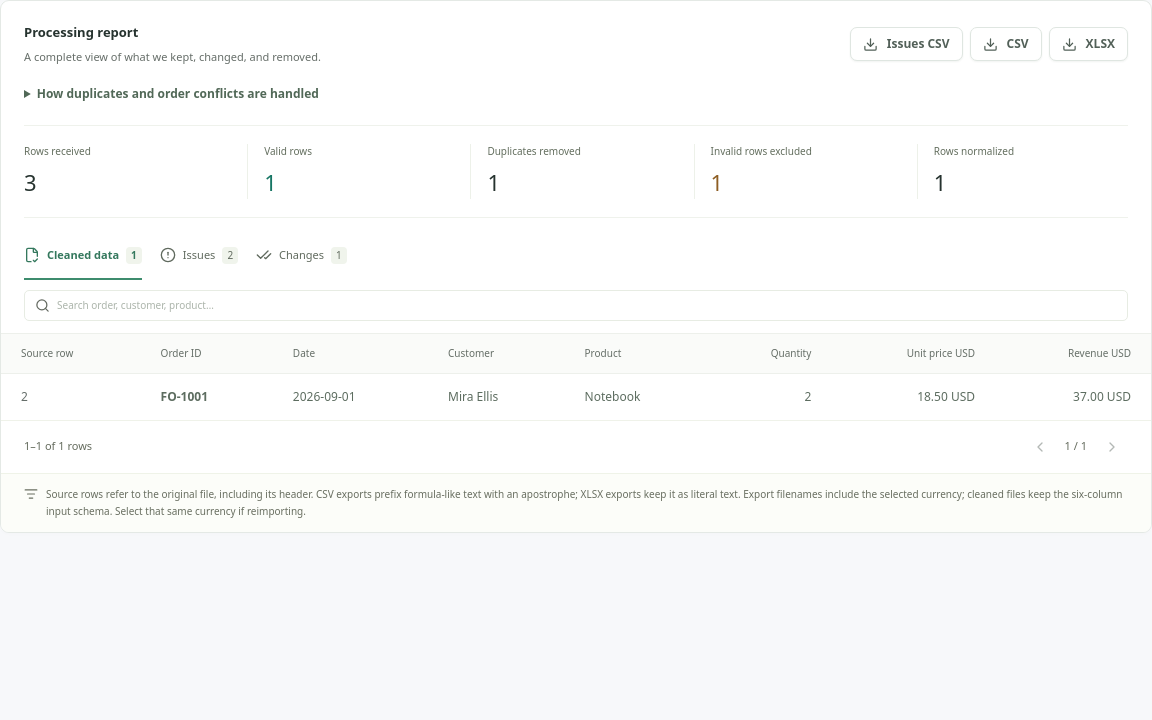
Scenario: filters cleaned rows without changing the stored report
In the field named "Search cleaned data": (587, 305) [57,298,1117,313], type "missing"
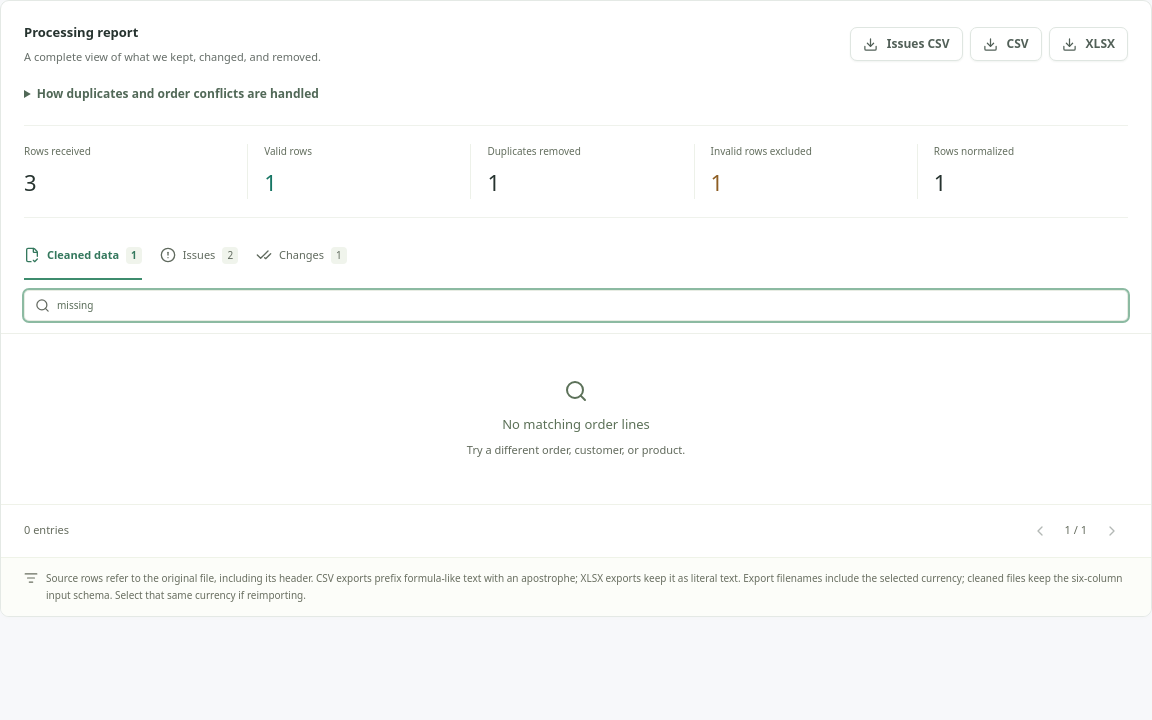
Result: the heading "No matching order lines" is shown at [502,415,650,433]
Clear the field named "Search cleaned data": (587, 305) [57,298,1117,313]
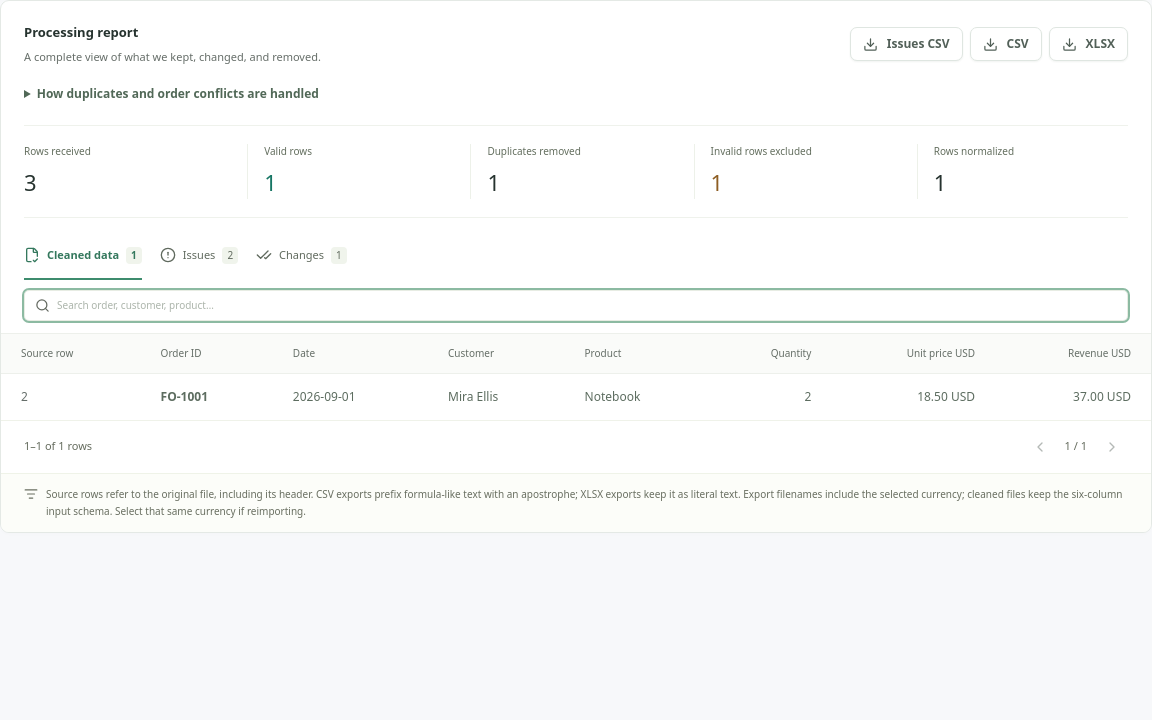
Result: the text "Notebook" is shown at [564,373,709,420]
